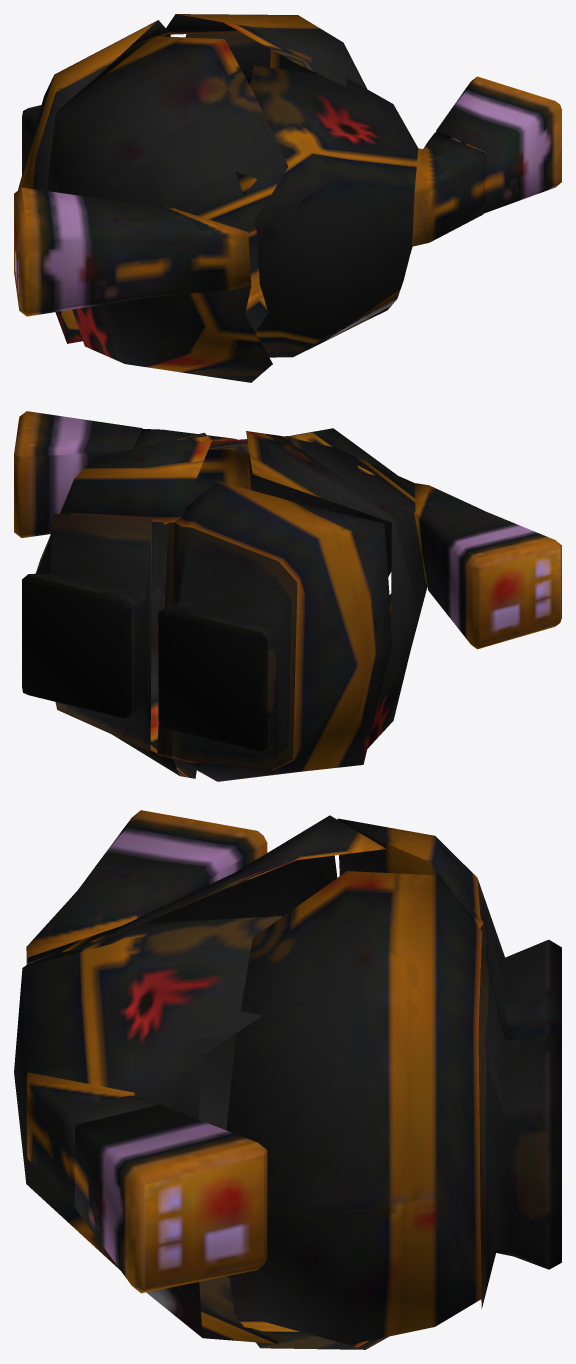
The model's file is Zombie_Broken_Self_Body_d746f6a4__Zombie_Self_Purple_ff1130b5_c1f257.obj.
3 views of the same model, one above another, from view 1: azimuth 30°, elevation 25°; view 2: azimuth 150°, elevation 25°; view 3: azimuth 270°, elevation 25° (orthographic). The views are drawn at different scales.
Size of the model in its own units: 1.13 by 0.6704 by 0.7056.
1 material, 1 textured.
